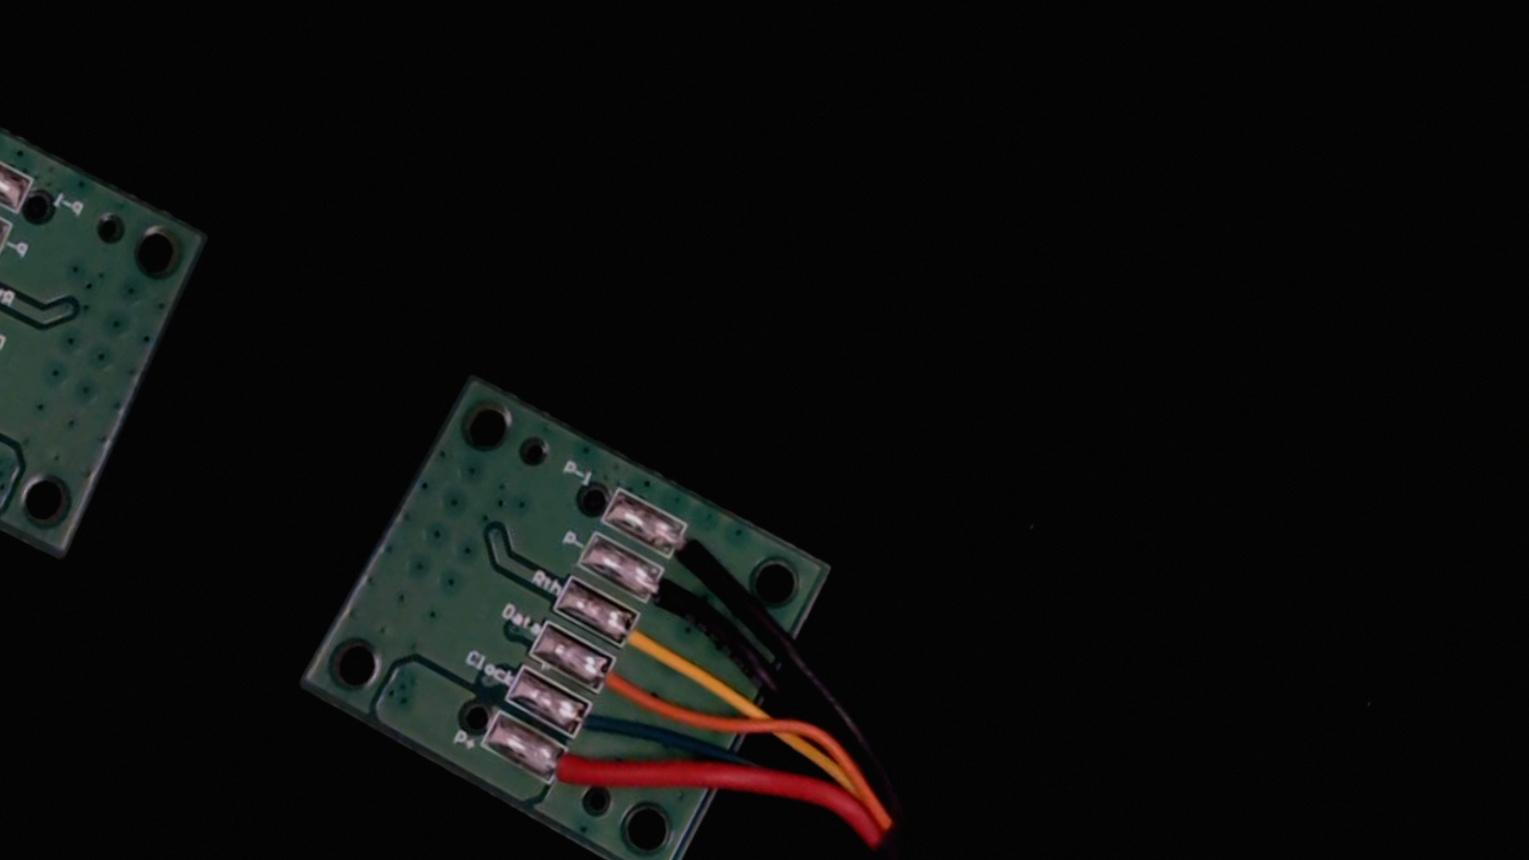Black: (621, 557, 717, 634)
Black1: (646, 511, 747, 592)
Green: (552, 688, 647, 765)
Orange: (574, 648, 671, 725)
Red: (529, 734, 624, 812)
Yellow: (599, 604, 688, 673)
